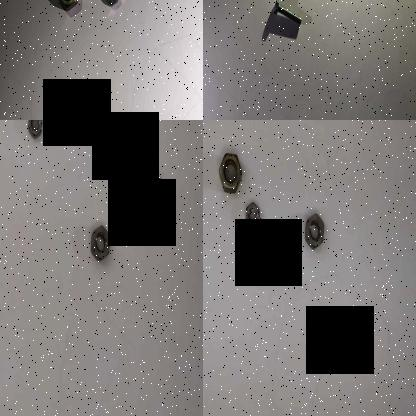Bolts: (270, 0, 306, 29)
NUTS: (141, 166, 174, 230), (86, 212, 115, 263), (300, 204, 330, 250), (216, 147, 242, 193), (242, 199, 264, 231), (21, 120, 47, 147), (52, 0, 82, 12), (102, 0, 120, 7)
